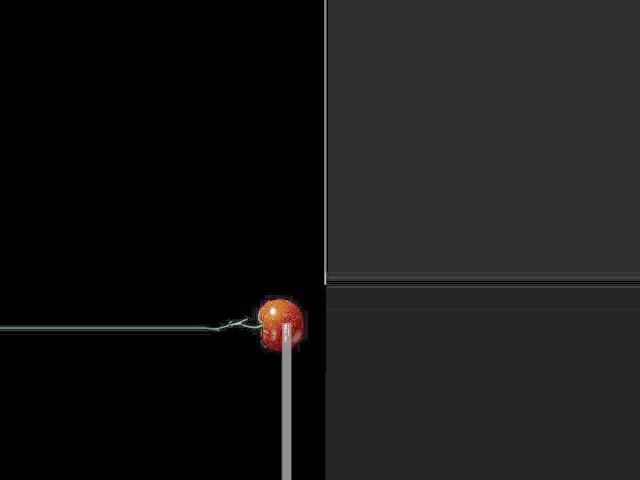tomato: (259, 300, 301, 349)
